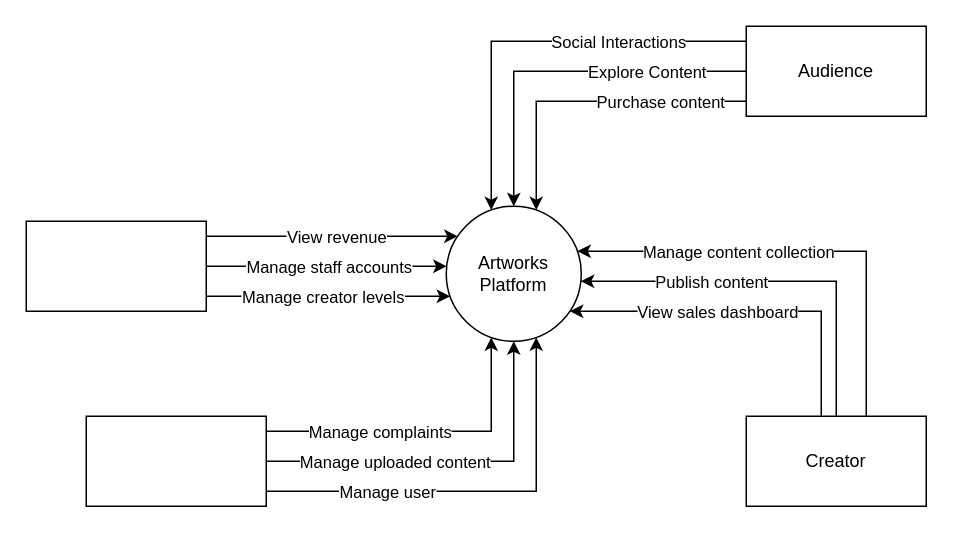
This 953x533 diagram has some shape labels left out. The box of each missing label's shape, as (x1, y1, x2, y2) in pixels:
Admin: (25, 220, 206, 311)
Staff: (85, 415, 266, 506)
